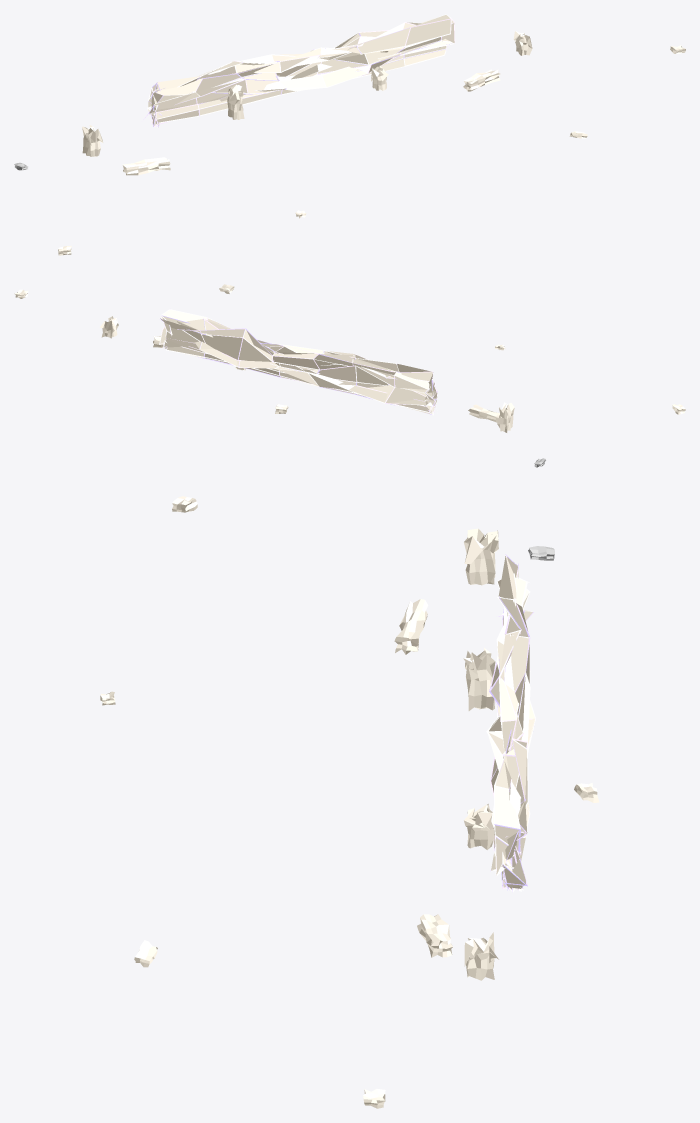
The model's file is GaleryMain.glb.
3 renders of one model, top to bottom at view 1: azimuth 30°, elevation 25°; view 2: azimuth 150°, elevation 25°; view 3: azimuth 270°, elevation 25°, orthographic. The views are drawn at different scales.
Visible parts, largest first — view 1: BackWall, AccentWall, Lintel1, Buttress_0, Buttress_1, Lintel2; view 2: BackWall, AccentWall, Buttress_0, Lintel1; view 3: BackWall, AccentWall, Buttress_0, Buttress_1, Buttress_3, Lintel1, Lintel2, Buttress_2.
Part boxes in pixels (box(x1,y1,x2,y2)): BackWall: box(148, 15, 454, 127); AccentWall: box(143, 14, 455, 127); Lintel1: box(122, 157, 170, 175); Buttress_0: box(82, 125, 102, 156); Buttress_1: box(227, 84, 244, 119); Lintel2: box(463, 69, 500, 91); BackWall: box(160, 310, 437, 413); AccentWall: box(159, 309, 437, 415); Buttress_0: box(497, 402, 514, 432); Lintel1: box(468, 404, 499, 422); BackWall: box(488, 556, 534, 889); AccentWall: box(486, 554, 535, 892); Buttress_0: box(464, 528, 498, 585); Buttress_1: box(463, 647, 495, 710); Buttress_3: box(464, 932, 498, 980); Lintel1: box(394, 599, 428, 654); Lintel2: box(417, 914, 452, 957); Buttress_2: box(464, 804, 493, 849).
Size of the model in its own units: 18.86 by 1.72 by 6.56.
